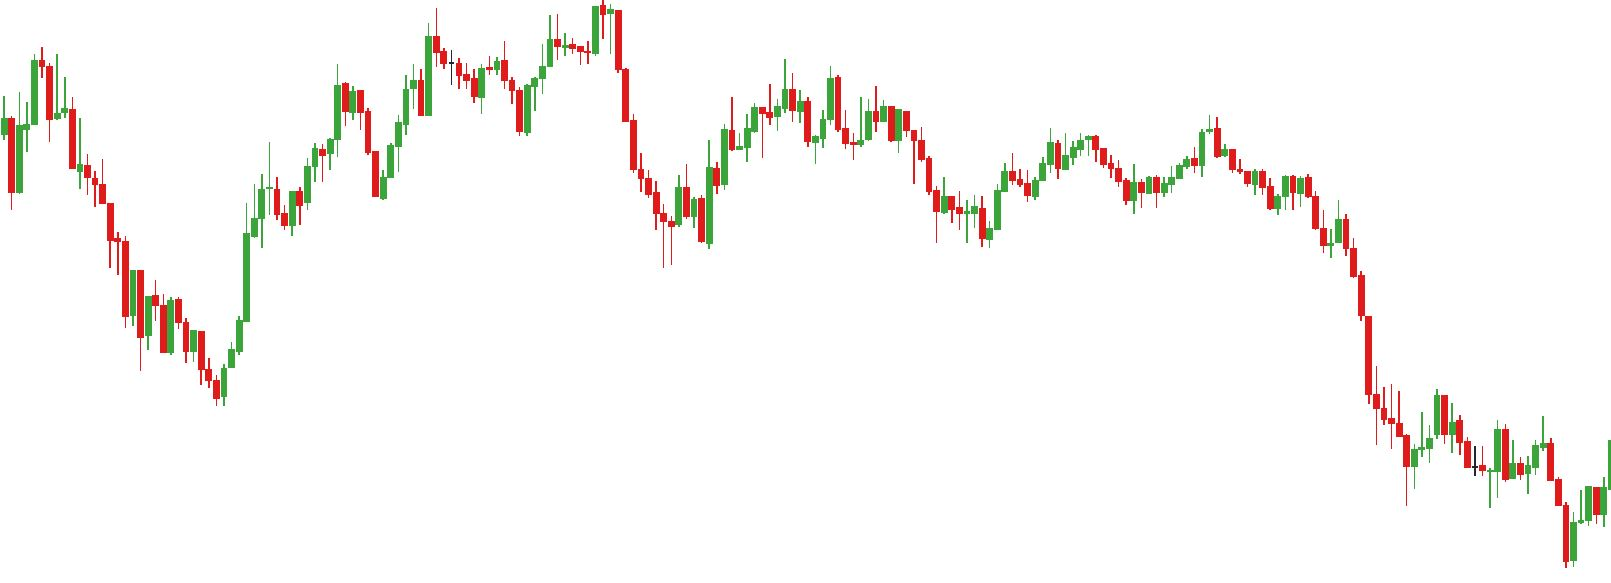buy: (317, 119, 388, 205), (477, 51, 532, 142)
sell: (544, 4, 608, 51)
